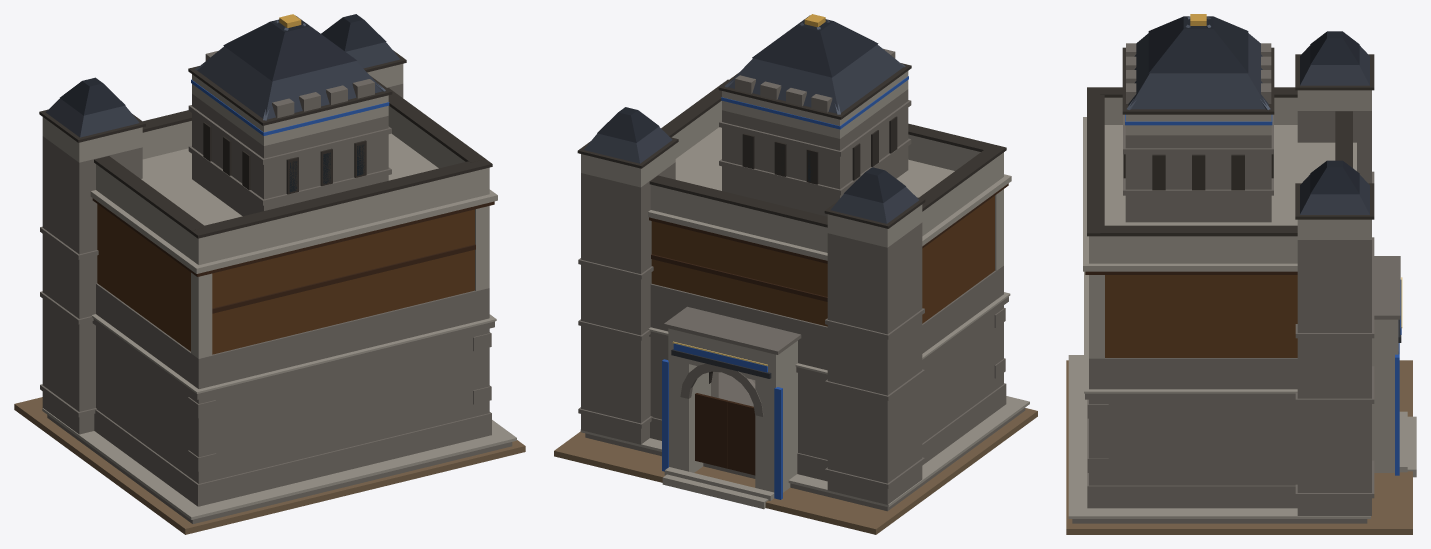
The model's file is 城镇大厅二本_手游_远.glb.
3 renders of one model, left to right at view 1: azimuth 30°, elevation 25°; view 2: azimuth 150°, elevation 25°; view 3: azimuth 270°, elevation 25°, orthographic. The views are drawn at different scales.
Visible parts, largest first — view 1: KH-主体, KH-team, KH-自发光; view 2: KH-主体, KH-team; view 3: KH-主体, KH-team.
Part boxes in pixels (x1,y1,x2,y2): KH-主体: (14,14,525,534); KH-team: (191,79,389,135); KH-自发光: (289,145,364,192); KH-主体: (554,14,1037,534); KH-team: (662,76,908,499); KH-主体: (1066,14,1416,534); KH-team: (1125,114,1401,475).
Size of the model in its own units: 13.1 by 15.71 by 11.52.
4 materials, 2 textured.
